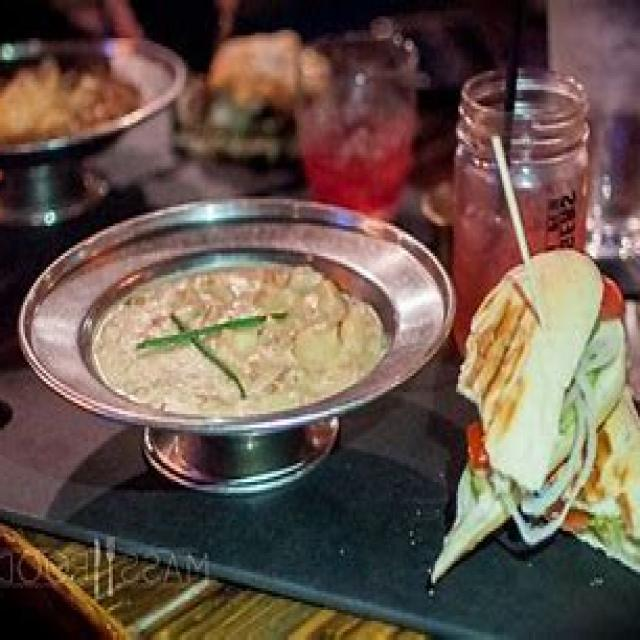Sandwich: (429, 204, 640, 594), (188, 22, 318, 177)
